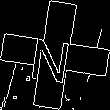N_N: (31, 27, 79, 83)
